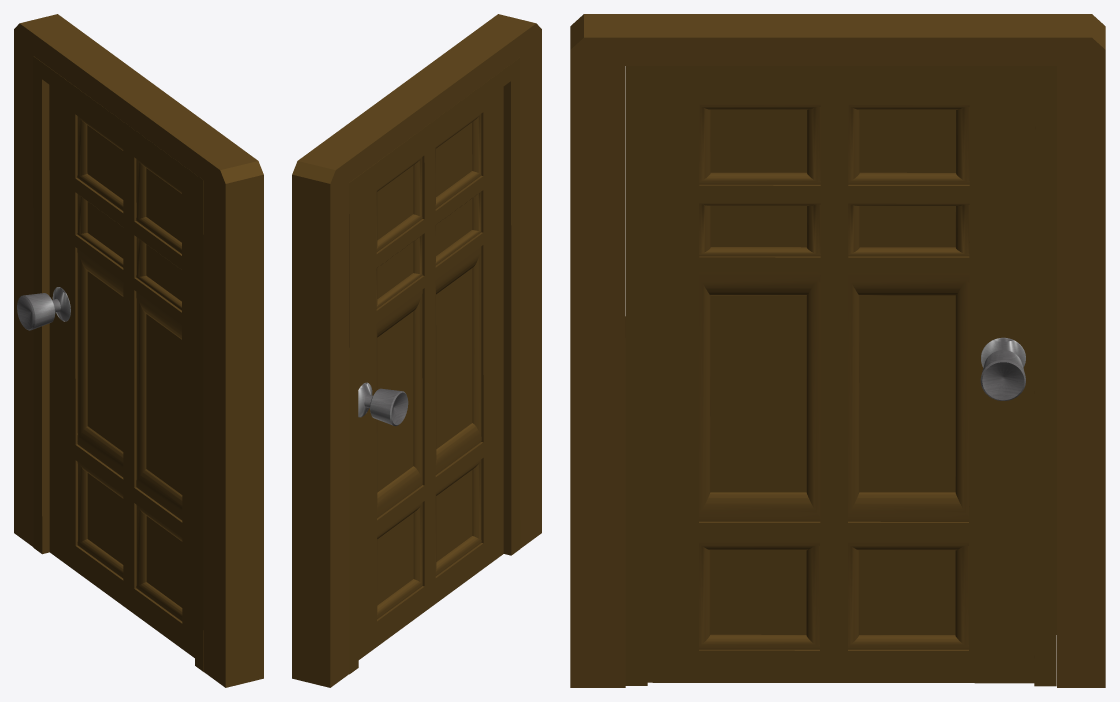
File: Door.fbx
The picture shows the model from 3 angles, left to right: view 1: azimuth 30°, elevation 25°; view 2: azimuth 150°, elevation 25°; view 3: azimuth 270°, elevation 25°; orthographic projection. The views are drawn at different scales.
Parts seen in each view (by area): view 1: pCube28, pCube4, pCylinder2; view 2: pCube28, pCube4, pCylinder2; view 3: pCube28, pCube4, pCylinder1.
Boxes of the visible parts, x1,y1,x2,y2 form: pCube28: (33,56,203,671); pCube4: (14,14,263,687); pCylinder2: (17,287,70,330); pCube28: (349,58,520,674); pCube4: (292,14,541,687); pCylinder2: (358,382,408,426); pCube28: (625,66,1056,686); pCube4: (570,14,1105,687); pCylinder1: (980,337,1025,400).
Size of the model in its own units: 2.99 by 15.22 by 11.34.
